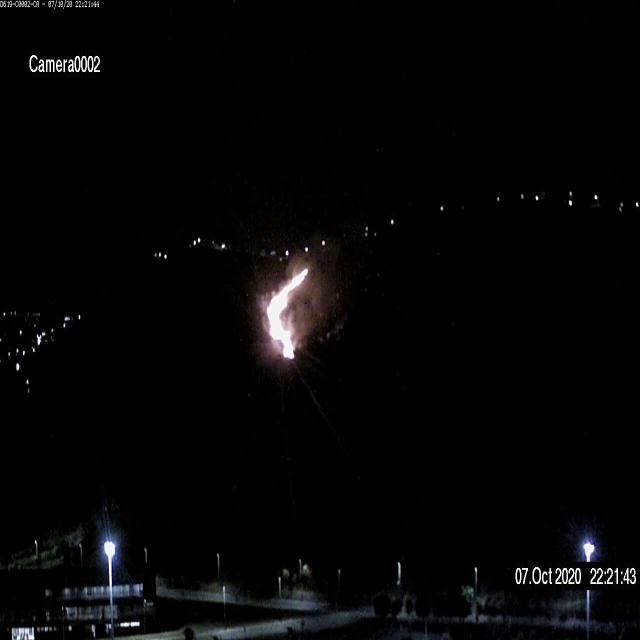Fire: (262, 263, 310, 359)
Smoke: (250, 228, 346, 384)
